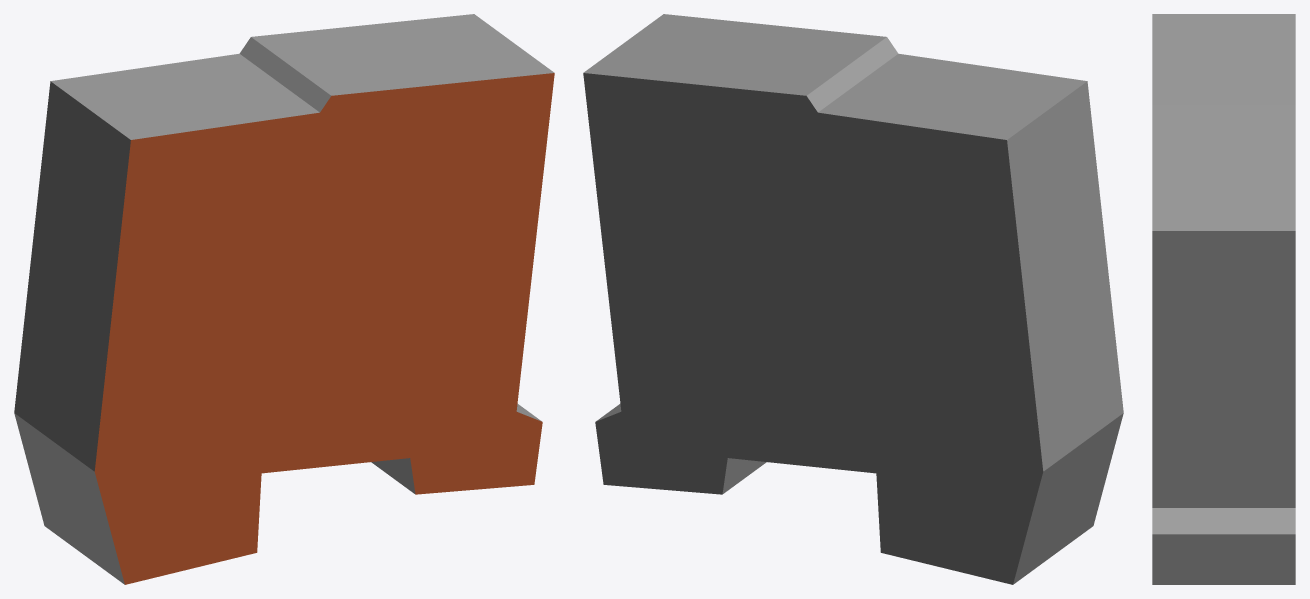
File: construction_3316_assumed_A_Casa_h6m.obj
3 views of the same model, side by side, from view 1: azimuth 30°, elevation 25°; view 2: azimuth 150°, elevation 25°; view 3: azimuth 270°, elevation 25° (orthographic). The views are drawn at different scales.
Visible parts, largest first — view 1: construction_3316_assumed_A_Casa; view 2: construction_3316_assumed_A_Casa; view 3: construction_3316_assumed_A_Casa.
Part boxes in pixels (box(x1,y1,x2,y2)): construction_3316_assumed_A_Casa: box(14, 14, 554, 584); construction_3316_assumed_A_Casa: box(583, 14, 1123, 584); construction_3316_assumed_A_Casa: box(1152, 14, 1295, 584).
Size of the model in its own units: 19.8 by 18.24 by 6.
